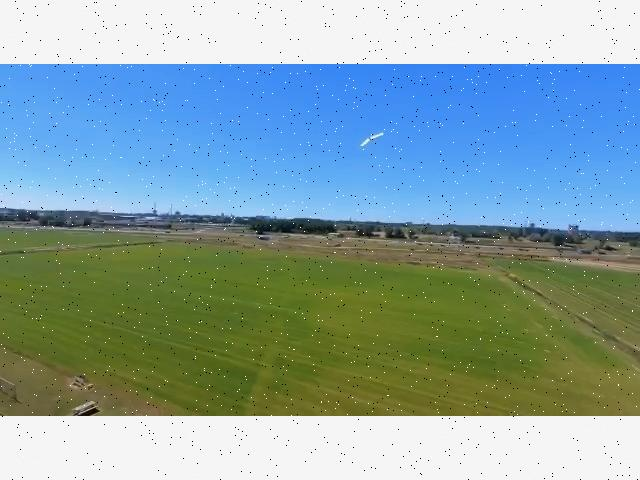Anti-Drone: (352, 123, 392, 157)
